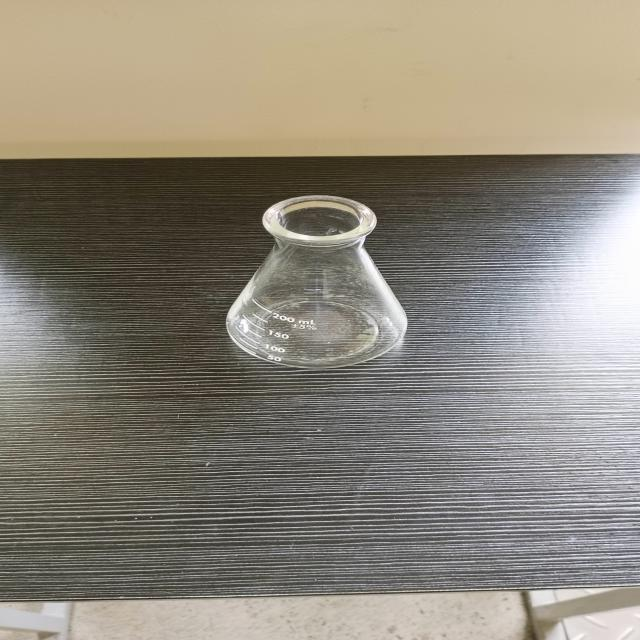erlenmeyer_flask: (219, 190, 412, 374)
